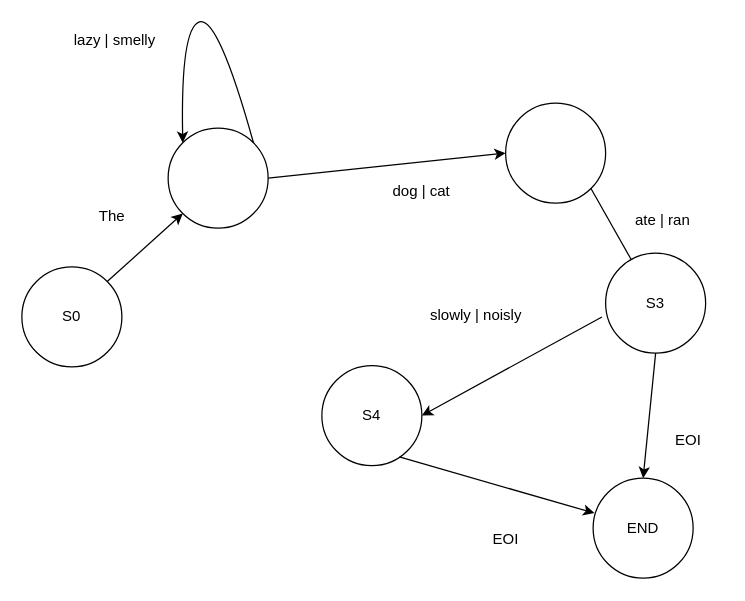
Image size: 745x601. Some labels were removed from this diagram. Each missing label, with the centre of its shape:
S1: (x=217, y=177)
S2: (x=555, y=152)
